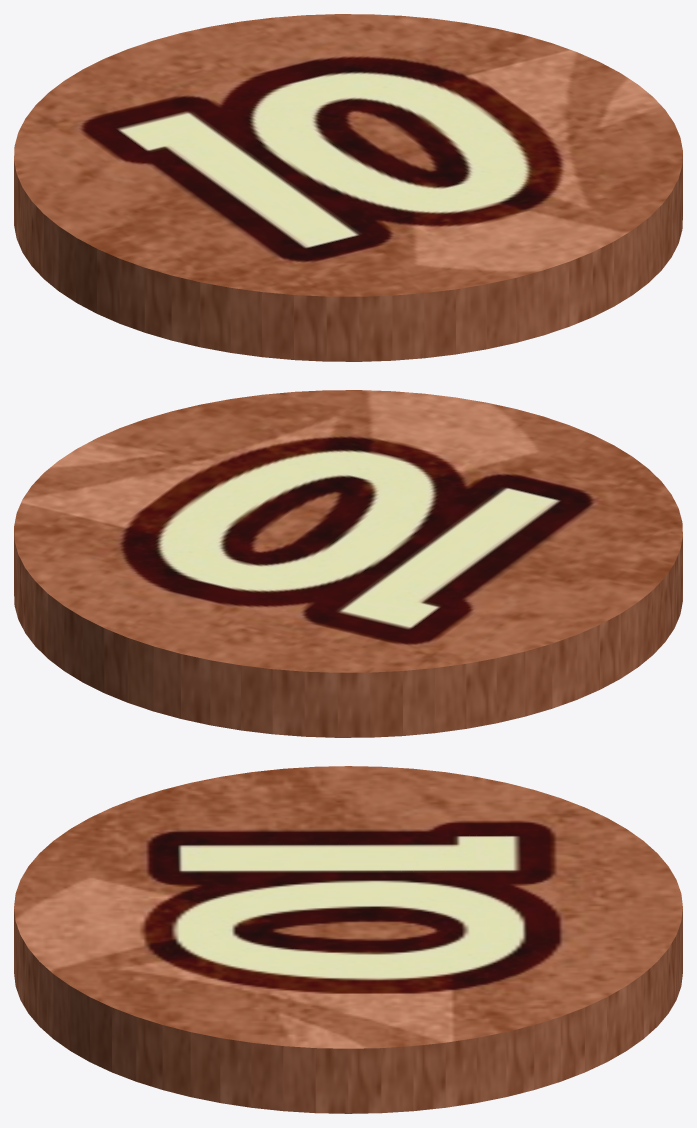
File: spice_token.gltf
The picture shows the model from 3 angles, top to bottom: view 1: azimuth 30°, elevation 25°; view 2: azimuth 150°, elevation 25°; view 3: azimuth 270°, elevation 25°; orthographic projection.
Visible parts, largest first — view 1: SpiceToken; view 2: SpiceToken; view 3: SpiceToken.
Boxes of the visible parts, x1,y1,x2,y2 form: SpiceToken: [14, 14, 682, 361]; SpiceToken: [14, 390, 682, 737]; SpiceToken: [14, 766, 682, 1113].
Bounding box in the file's own units: 0.0343 × 0.00368 × 0.0343.
1 material, 1 textured.
